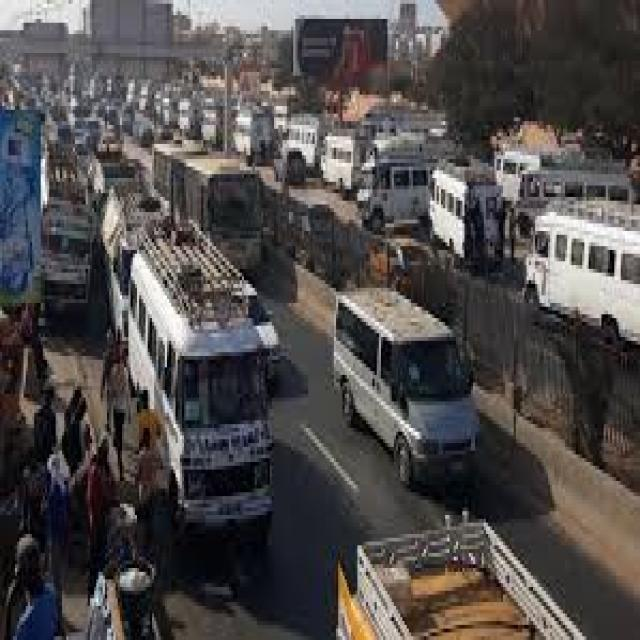bus dem dikk: (154, 145, 261, 271)
ndiaga ndiaye: (131, 222, 277, 530), (527, 219, 640, 345), (434, 171, 504, 264), (368, 134, 436, 227), (44, 200, 92, 304)
particulier: (335, 289, 480, 486)
